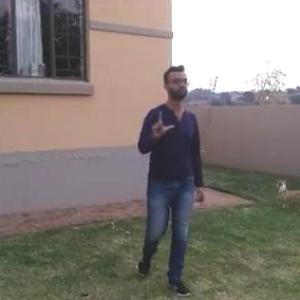land_hand: (144, 103, 178, 142)
